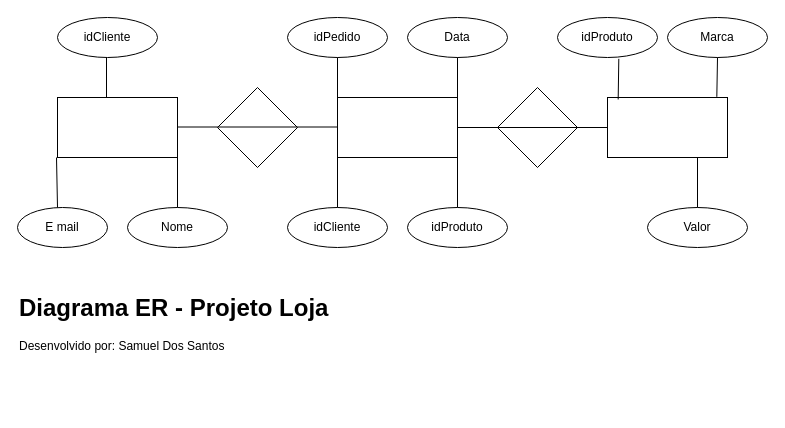
Some shapes in this 785 by 428 pixel diagram are drawn without their labels. Here are the shapes that lost their labels. From the top down, the box of each, then its label:
(56, 96, 178, 158): Clientes
(336, 96, 458, 158): Pedidos
(606, 96, 728, 158): Produtos
